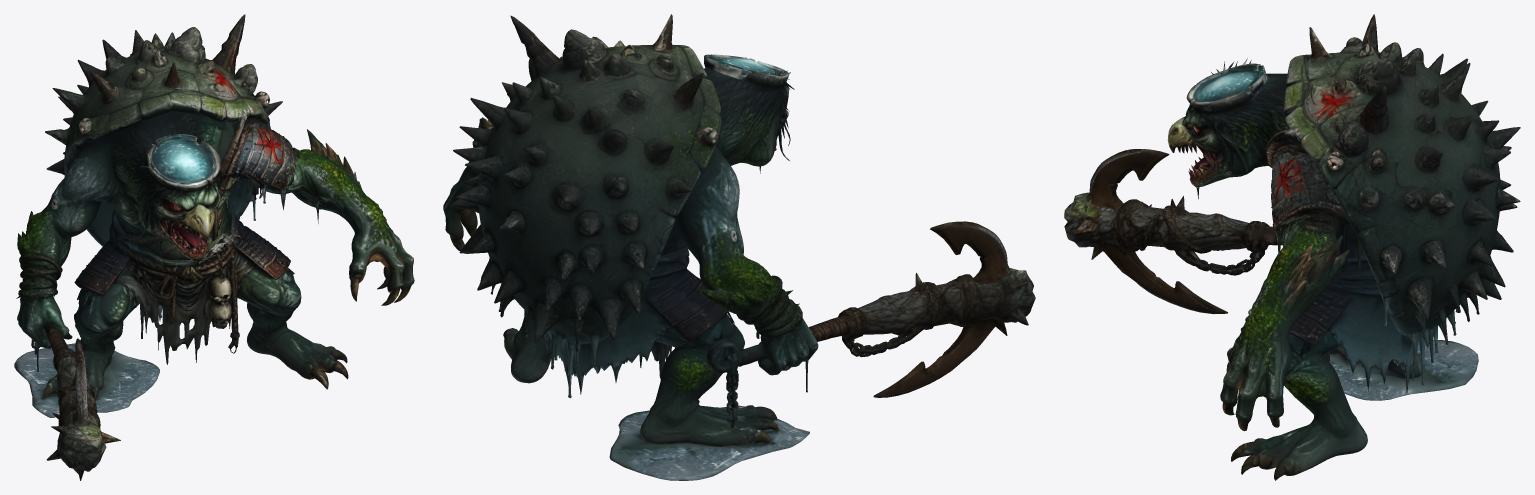
File: kappa_boss_2048.glb
3 views of the same model, side by side, from view 1: azimuth 30°, elevation 25°; view 2: azimuth 150°, elevation 25°; view 3: azimuth 270°, elevation 25° (orthographic). The views are drawn at different scales.
Visible parts, largest first — view 1: node_0; view 2: node_0; view 3: node_0.
Part boxes in pixels (x1,y1,x2,y2): node_0: (14, 14, 414, 480); node_0: (443, 14, 1035, 480); node_0: (1064, 14, 1520, 480).
Bounding box in the file's own units: 0.9066 × 0.6696 × 0.7478.
1 material, 1 textured.
